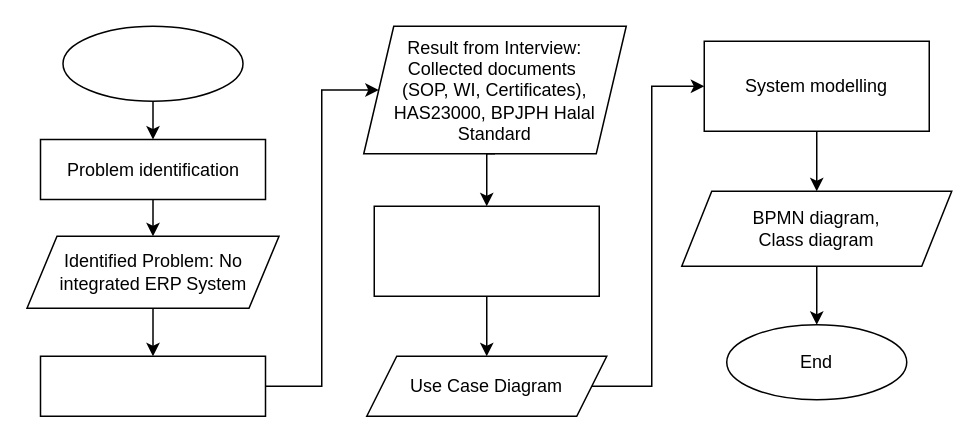
Some shapes in this 978 by 443 pixel diagram are drawn without their labels. Each missing label, with the box of its shape:
Data gathering: (39, 355, 266, 416)
Requirements analysis: (373, 205, 599, 296)
Start: (62, 25, 243, 101)
